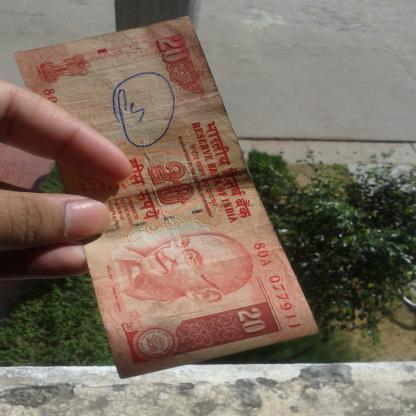Old20Front: (15, 14, 318, 380)
